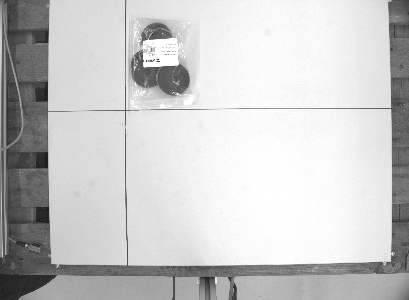t1: (125, 13, 197, 111)
